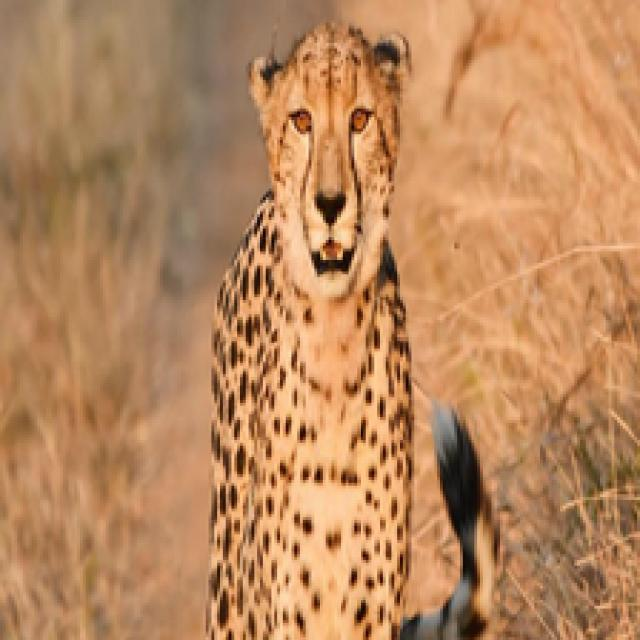cheetah: (201, 5, 508, 640)
